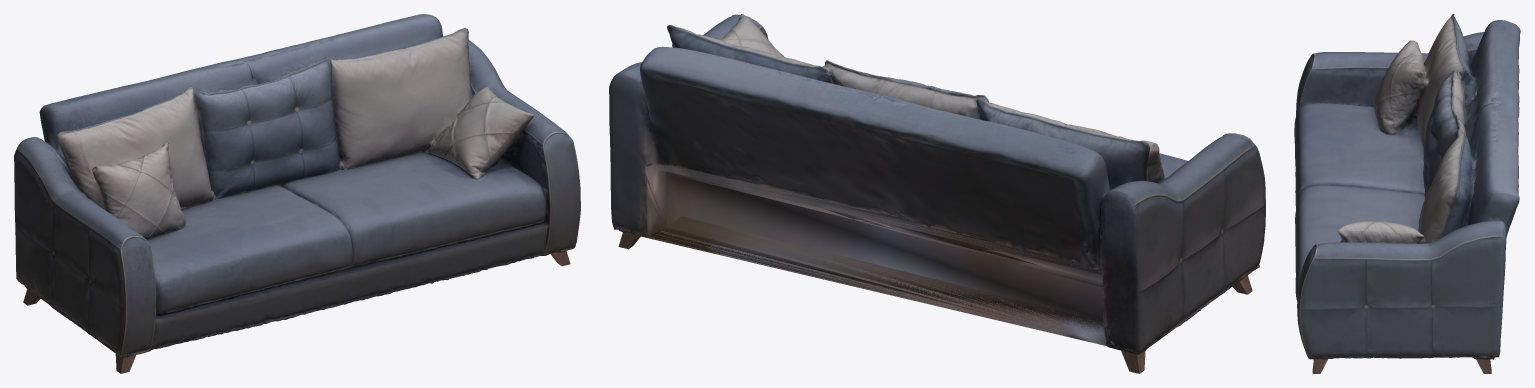
The model's file is VelvetSofa.glb.
3 renders of one model, left to right at view 1: azimuth 30°, elevation 25°; view 2: azimuth 150°, elevation 25°; view 3: azimuth 270°, elevation 25°, orthographic. The views are drawn at different scales.
Visible parts, largest first — view 1: Classic Sofa Photoscan_1, Cube.004_0; view 2: Classic Sofa Photoscan_1, Cube.004_0; view 3: Classic Sofa Photoscan_1, Cube.004_0.
Boxes of the visible parts, bbox=[...] form: Classic Sofa Photoscan_1: bbox=[14, 14, 580, 357]; Cube.004_0: bbox=[23, 251, 570, 373]; Classic Sofa Photoscan_1: bbox=[609, 14, 1265, 354]; Cube.004_0: bbox=[618, 232, 1252, 373]; Classic Sofa Photoscan_1: bbox=[1294, 14, 1520, 359]; Cube.004_0: bbox=[1312, 359, 1491, 373].
Bounding box in the file's own units: 8.86 × 3.49 × 4.12.
2 materials, 2 textured.
